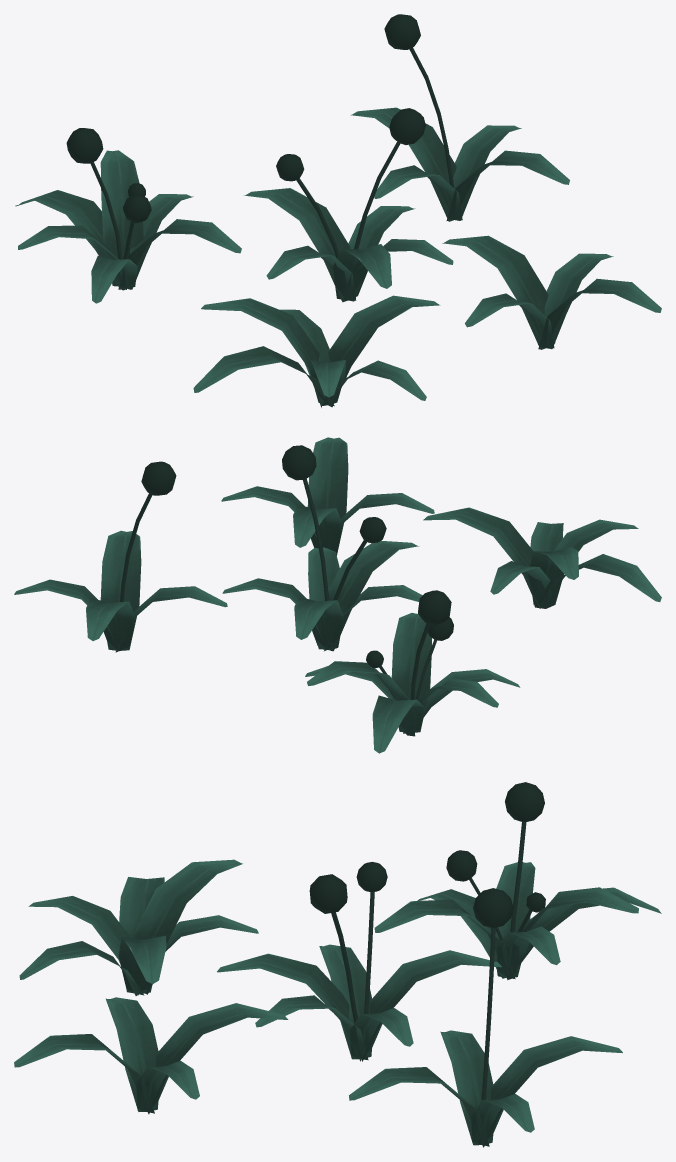
File: glow_plant.glb
3 renders of one model, top to bottom at view 1: azimuth 30°, elevation 25°; view 2: azimuth 150°, elevation 25°; view 3: azimuth 270°, elevation 25°, orthographic. The views are drawn at different scales.
Parts seen in each view (by area): view 1: mesh; view 2: mesh; view 3: mesh.
Part boxes in pixels (x1,y1,x2,y2): mesh: (15,14,661,407); mesh: (14,437,661,753); mesh: (14,782,661,1147).
Bounding box in the file's own units: 0.8773 × 0.3559 × 0.9.
1 material, 1 textured.
